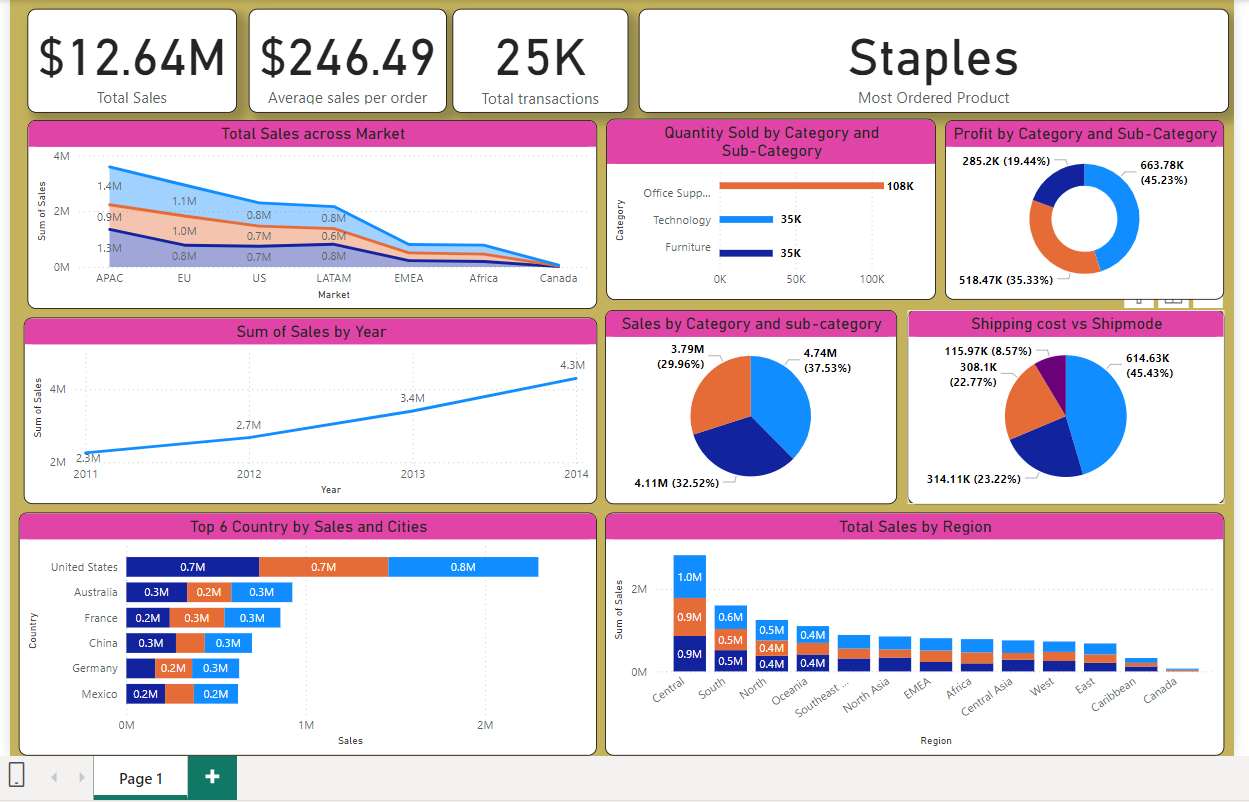

Layout of this report page (visuals, bound fields, positions):
{"tool":"powerbi","page":{"name":"Page 1","canvas":[1280,791],"ordinal":0},"visuals":[{"type":"card","fields":{"Values":["Orders.Total Sales"]},"box":[18.5,8.8,218.8,108.9],"z":0},{"type":"card","fields":{"Values":["Orders.Average sales per order"]},"box":[250,8.8,207.2,108.9],"z":1000},{"type":"card","fields":{"Values":["Orders.Total transactions"]},"box":[462.7,8.8,184.1,109.1],"z":2000},{"type":"barChart","title":"Top 6 Country by Sales and Cities","fields":{"Category":["Orders.Country","Orders.City"],"Y":["Sum(Orders.Sales)"],"Series":["Orders.Category"]},"box":[9.7,535.8,604.9,254.2],"z":3000},{"type":"columnChart","title":"Total Sales by Region","fields":{"Y":["Sum(Orders.Sales)"],"Category":["Orders.Region"],"Series":["Orders.Category"]},"box":[622.5,535.8,647.8,254.2],"z":4000},{"type":"stackedAreaChart","title":"Total Sales across Market","fields":{"Category":["Orders.Market"],"Y":["Sum(Orders.Sales)"],"Series":["Orders.Category"]},"box":[18.5,125.7,596.2,197.8],"z":5000},{"type":"pieChart","title":"Shipping cost vs Shipmode","fields":{"Category":["Orders.Ship Mode"],"Y":["Sum(Orders.Shipping Cost)"]},"box":[938.6,323.9,331.7,203.3],"z":6000},{"type":"pieChart","title":"Sales by Category and sub-category","fields":{"Y":["Sum(Orders.Sales)"],"Category":["Orders.Category","Orders.Sub-Category"]},"box":[622.5,323.9,305.4,203.3],"z":7000},{"type":"card","fields":{"Values":["Orders.Most Ordered Product"]},"box":[657.5,8.8,617.6,108.9],"z":8000},{"type":"lineChart","fields":{"Category":["Orders.Order Date.Variation.Date Hierarchy.Year","Orders.Order Date.Variation.Date Hierarchy.Month"],"Y":["Sum(Orders.Sales)"]},"box":[14.6,331.7,600.1,195.5],"z":9000},{"type":"donutChart","title":"Profit by Category and Sub-Category","fields":{"Category":["Orders.Category","Orders.Sub-Category"],"Y":["Sum(Orders.Profit)"]},"box":[978,125.7,292.2,188],"z":10000},{"type":"clusteredBarChart","title":"Quantity Sold by Category  and Sub-Category","fields":{"Category":["Orders.Category","Orders.Sub-Category"],"Y":["Sum(Orders.Quantity)"],"Series":["Orders.Category"]},"box":[624.4,123.7,344.8,190],"z":11000}]}

Visuals, with their boxes in screenshot pixels (x1, y1, x2, y2):
card - Orders.Total Sales: 21,2,232,107
card - Orders.Average sales per order: 244,2,443,107
card - Orders.Total transactions: 449,2,626,107
"Top 6 Country by Sales and Cities" barChart: 13,509,595,754
"Total Sales by Region" columnChart: 602,509,1226,754
"Total Sales across Market" stackedAreaChart: 21,114,595,305
"Shipping cost vs Shipmode" pieChart: 906,305,1226,501
"Sales by Category and sub-category" pieChart: 602,305,896,501
card - Orders.Most Ordered Product: 636,2,1230,107
lineChart - Orders.Order Date.Variation.Date Hierarchy.Year x Orders.Order Date.Variation.Date Hierarchy.Month: 17,313,595,501
"Profit by Category and Sub-Category" donutChart: 944,114,1226,295
"Quantity Sold by Category  and Sub-Category" clusteredBarChart: 604,113,936,295
